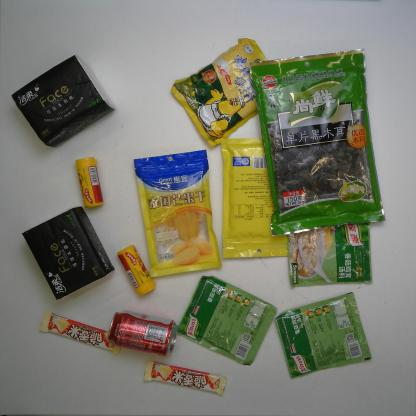Candy: (116, 244, 156, 297), (75, 156, 104, 210)
Chocolate: (39, 311, 122, 355), (142, 358, 228, 397)
Dried Food: (248, 48, 387, 237)
Dried Fruit: (132, 148, 222, 278), (219, 137, 291, 260)
Drink: (107, 308, 179, 358)
Seasoner: (170, 37, 271, 148), (176, 273, 278, 367), (274, 290, 373, 380), (286, 222, 374, 288)
Tissue: (10, 52, 117, 148), (20, 204, 116, 301)
